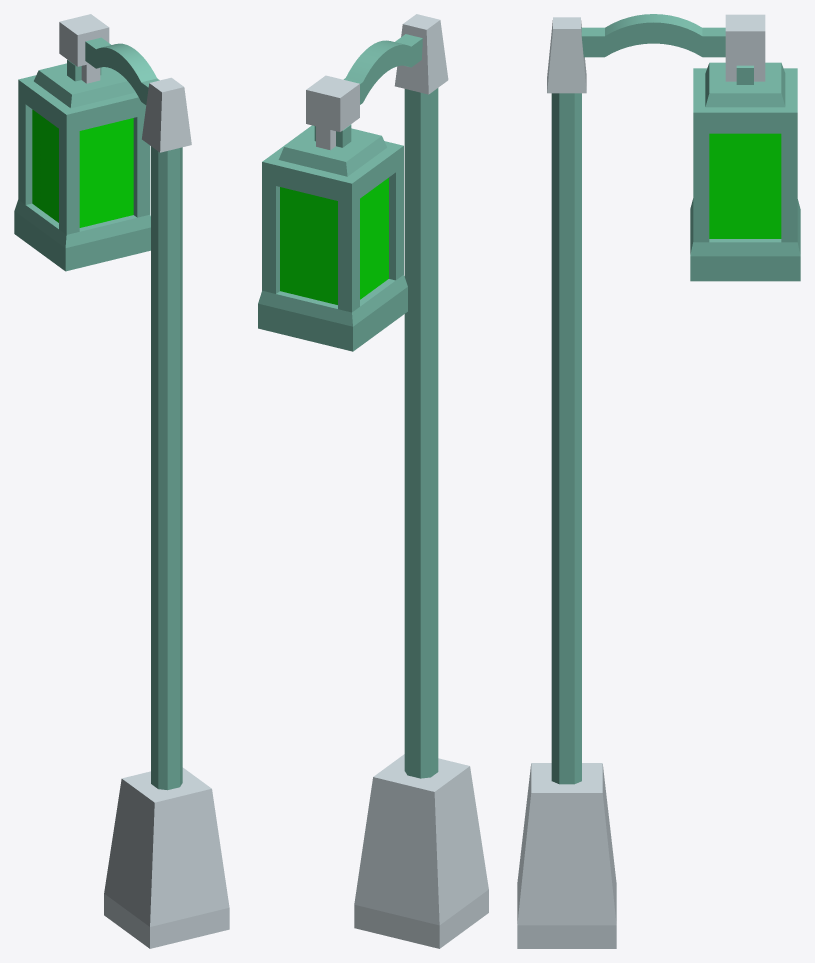
Rendered from LanternGreen.obj.
3 views of the same model, side by side, from view 1: azimuth 30°, elevation 25°; view 2: azimuth 150°, elevation 25°; view 3: azimuth 270°, elevation 25° (orthographic). The views are drawn at different scales.
Visible parts, largest first — view 1: LanternGreen; view 2: LanternGreen; view 3: LanternGreen.
Boxes of the visible parts, box(x1,y1,x2,y2) form: LanternGreen: box(14, 14, 229, 948); LanternGreen: box(258, 14, 488, 948); LanternGreen: box(517, 14, 800, 948).
Bounding box in the file's own units: 1.46 × 13.26 × 3.74.
